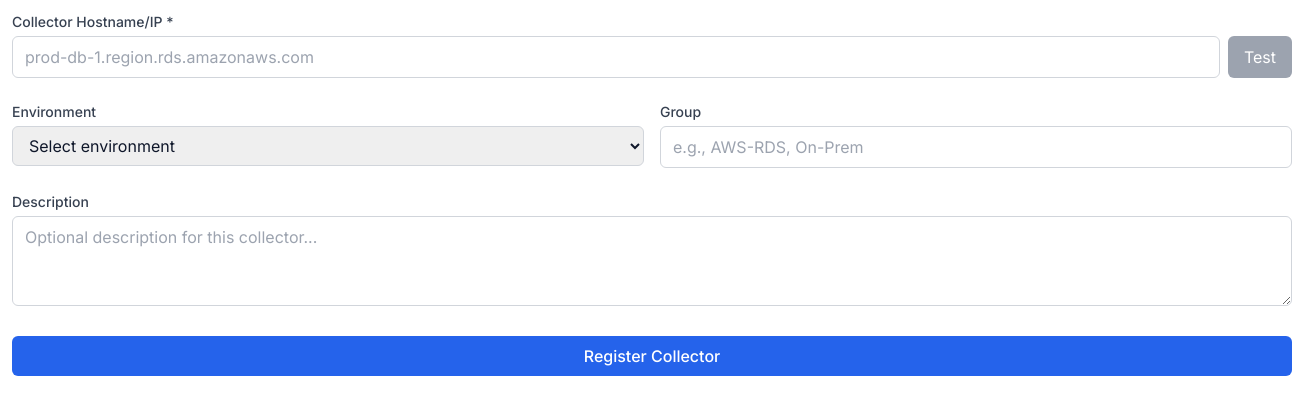
Scenario: CollectorForm › Connection testing › should test connection successfully
The width and height of the screenshot is (1304, 417).
Enter hostname
Type "localhost" into the field with placeholder "prod-db-1.region.rds.amazonaws.com".
click(616, 57); type("localhost")  # box [12,36,1220,78]
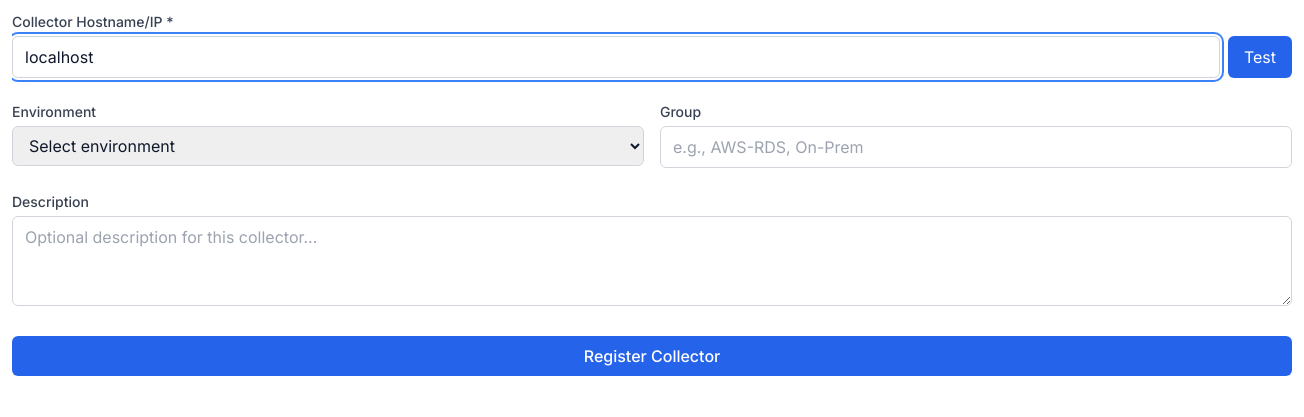
Click test button
Click the button "Test".
click(1260, 57)  # box [1228,36,1292,78]
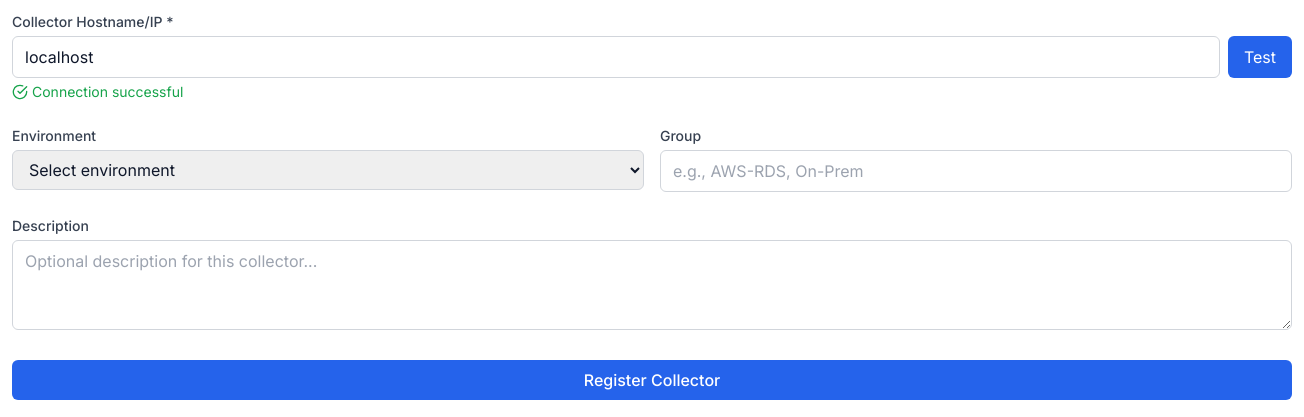
Expected: the text "Connection successful" is shown, [12,83,183,100]
